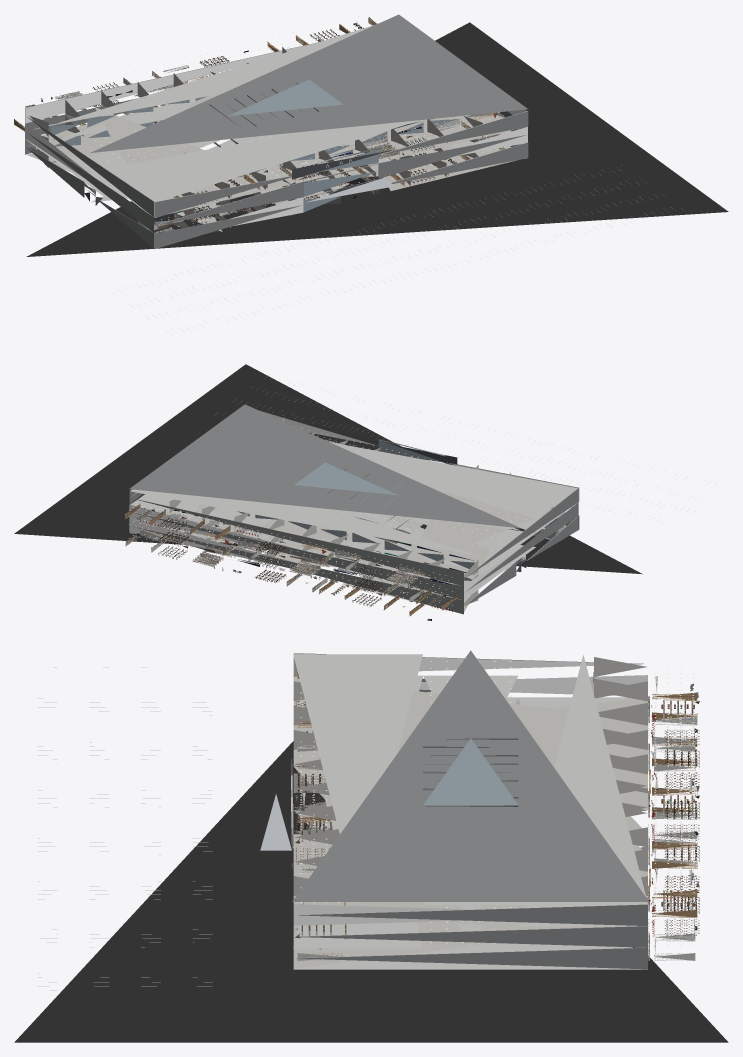
Rendered from simge_avm.glb.
3 renders of one model, top to bottom at view 1: azimuth 30°, elevation 25°; view 2: azimuth 150°, elevation 25°; view 3: azimuth 270°, elevation 25°, orthographic. The views are drawn at different scales.
Visible parts, largest first — view 1: Simge_AVM.001; view 2: Simge_AVM.001; view 3: Simge_AVM.001.
Part boxes in pixels (x1,y1,x2,y2): Simge_AVM.001: (14, 14, 728, 331); Simge_AVM.001: (14, 364, 717, 620); Simge_AVM.001: (14, 650, 728, 1042).
Size of the model in its own units: 230 by 21.7 by 180.
